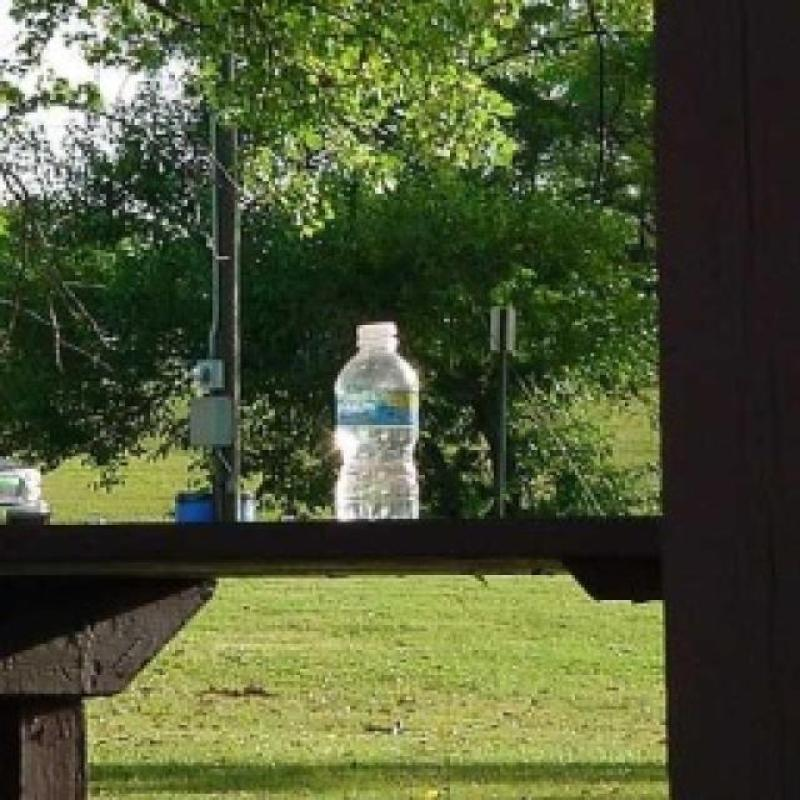botella: (332, 321, 423, 519)
